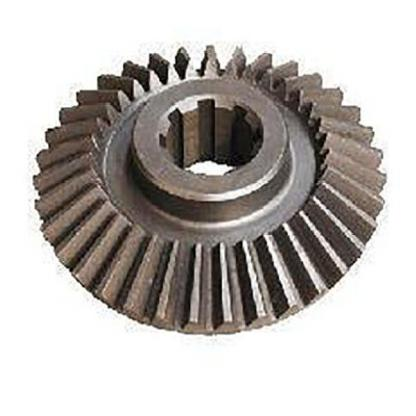FOD: (32, 40, 390, 344)
